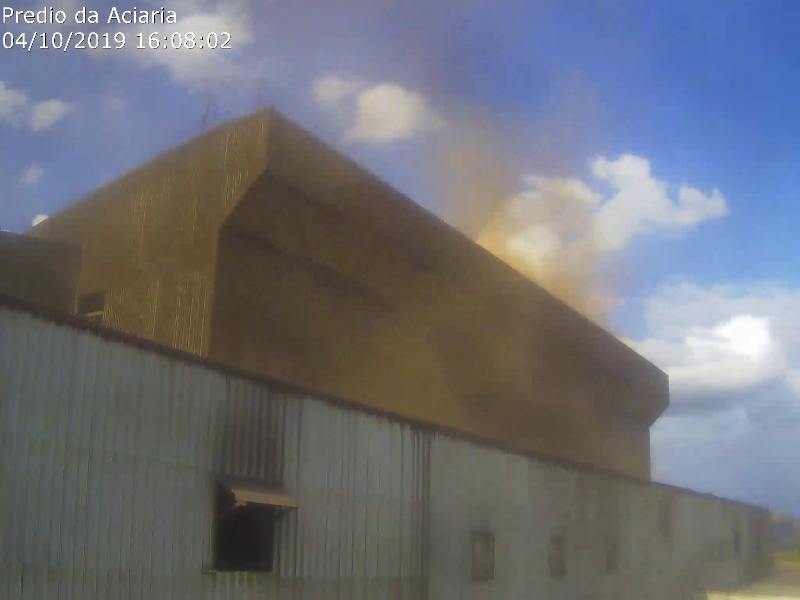bom: (2, 2, 254, 175), (540, 261, 632, 466)
ruim: (293, 240, 547, 425), (373, 92, 627, 277)
